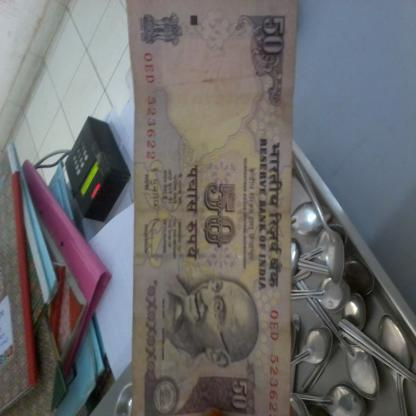Old50Front: (126, 0, 299, 416)
